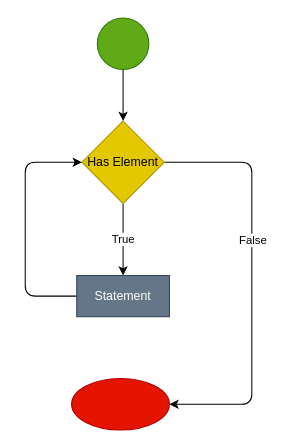
This 284x448 diagram has some shape labels left out. Here are the shapes that lost their labels. From the top down, the box of each, then its label:
(96, 17, 149, 70): Start
(71, 377, 169, 430): End
